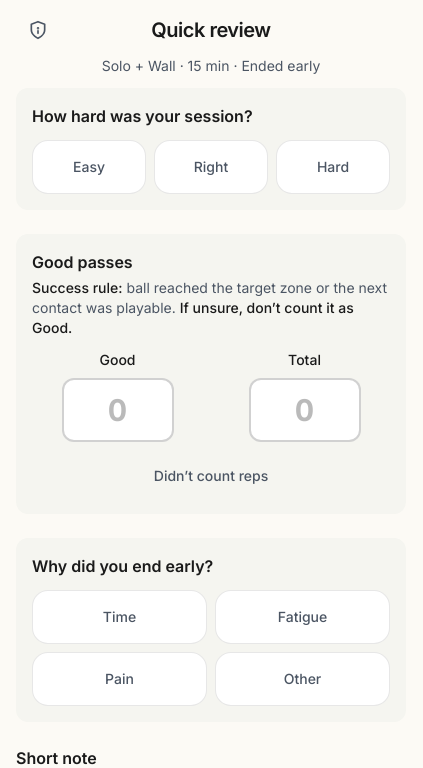
Test case: ReviewScreen end-intent gating (U3) › keeps the reason gate for a user cut-short
Expected: the heading "Quick review" is shown, 151,16 -> 271,44
Expected: the heading "Why did you end early?" is shown, 32,556 -> 213,576
Click the radio button labelled "Right" at (211, 167), box 154,140 -> 268,194
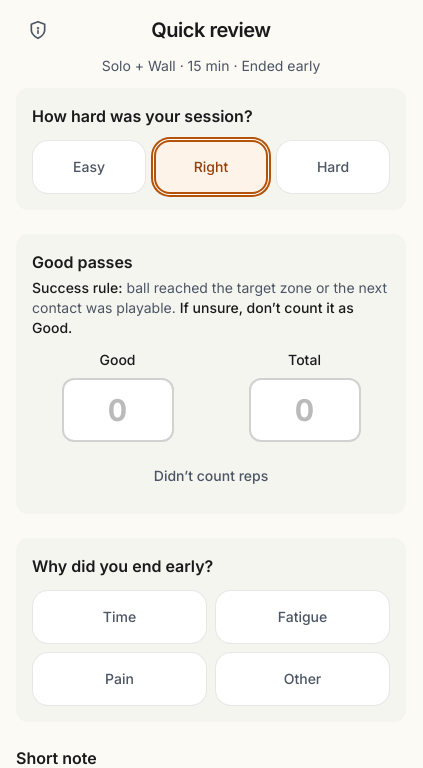
Click the radio button labelled "Fatigue" at (302, 617), box 215,590 -> 390,644
(page scrolled)
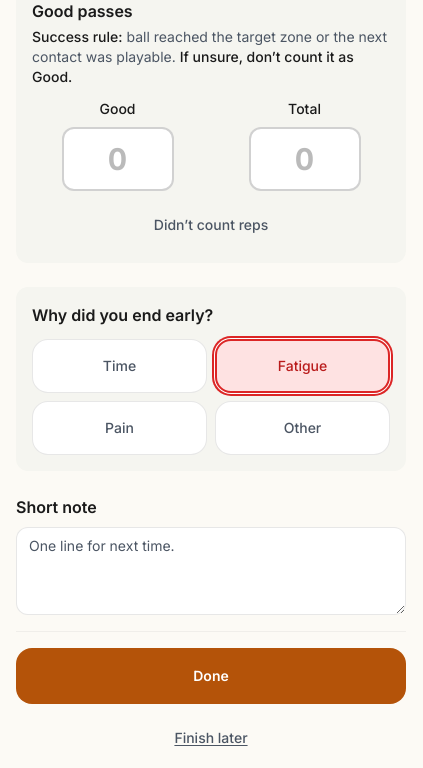
Expected: the button "Done" is enabled, 16,648 -> 406,704
